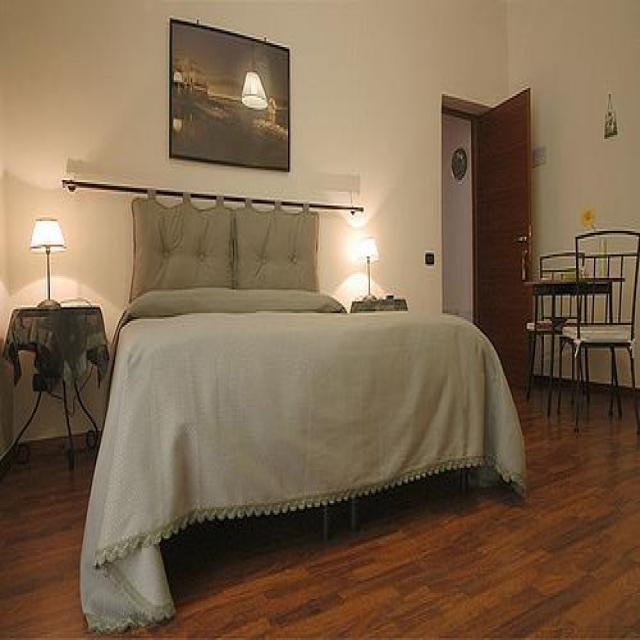bed: (62, 170, 526, 632)
